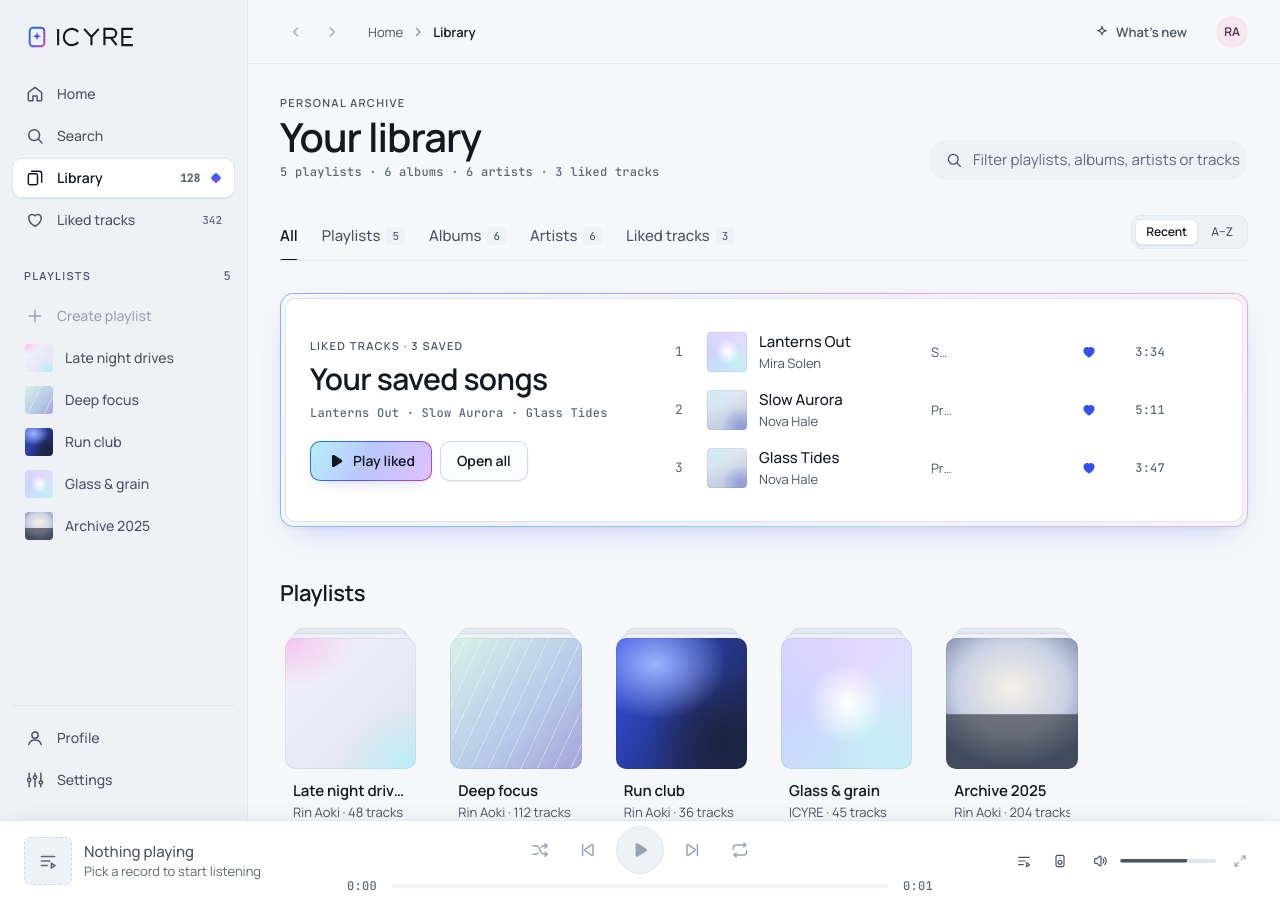
Scenario: Library screen › switches tabs and syncs URL query parameter
Expected: the heading "Your library" is shown, [280,109,481,164]
What coordinates should you click on to do the following:
click the tab "Albums 6"
I would click on:
 (468, 236)
Its box is [429,212,506,260].
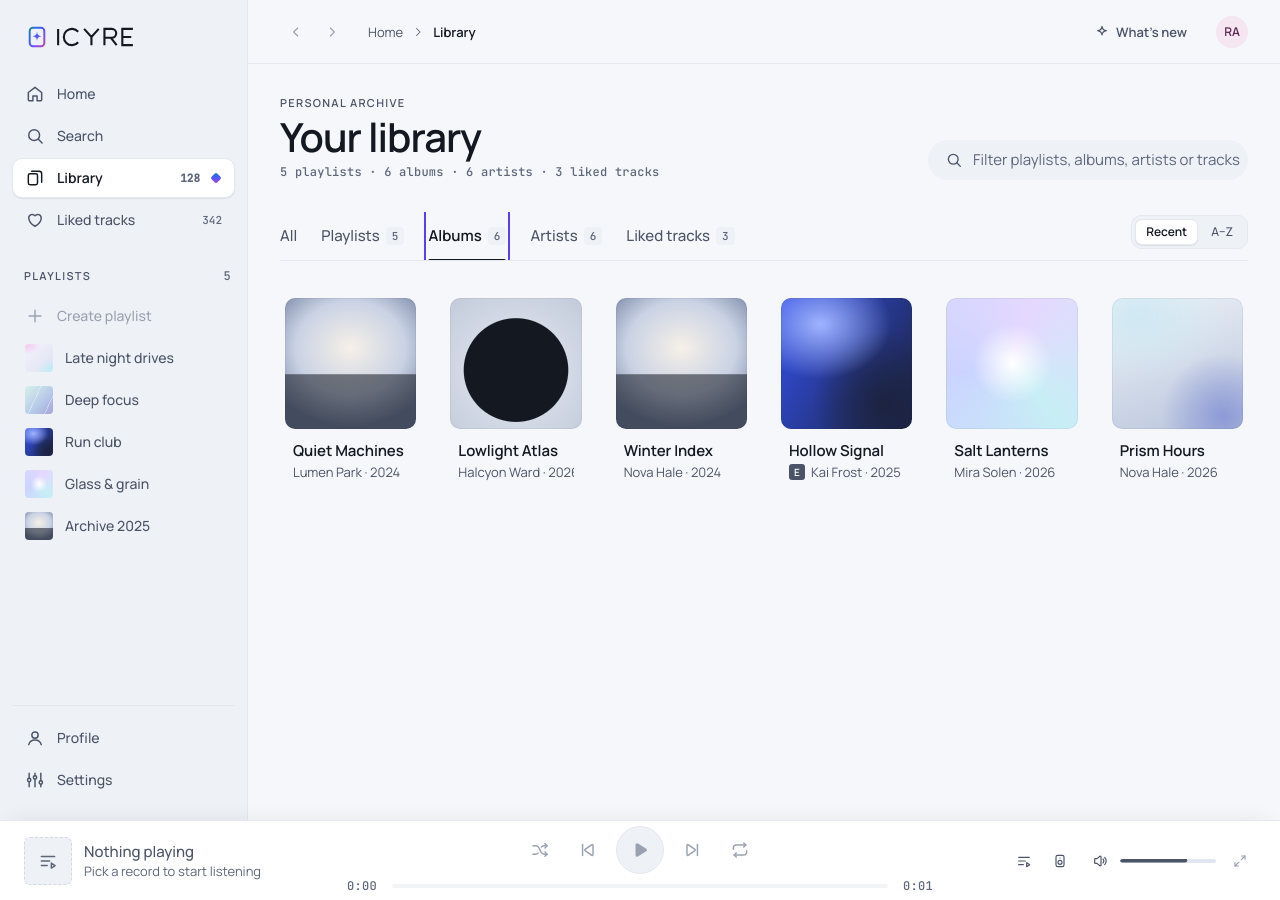
Now the button "Salt Lanterns Mira Solen · 2026" is shown, box [946,429,1078,489]
What coordinates should you click on to do the following:
click the tab "Liked tracks 3"
I would click on:
 (681, 236)
Its box is [626,212,735,260].
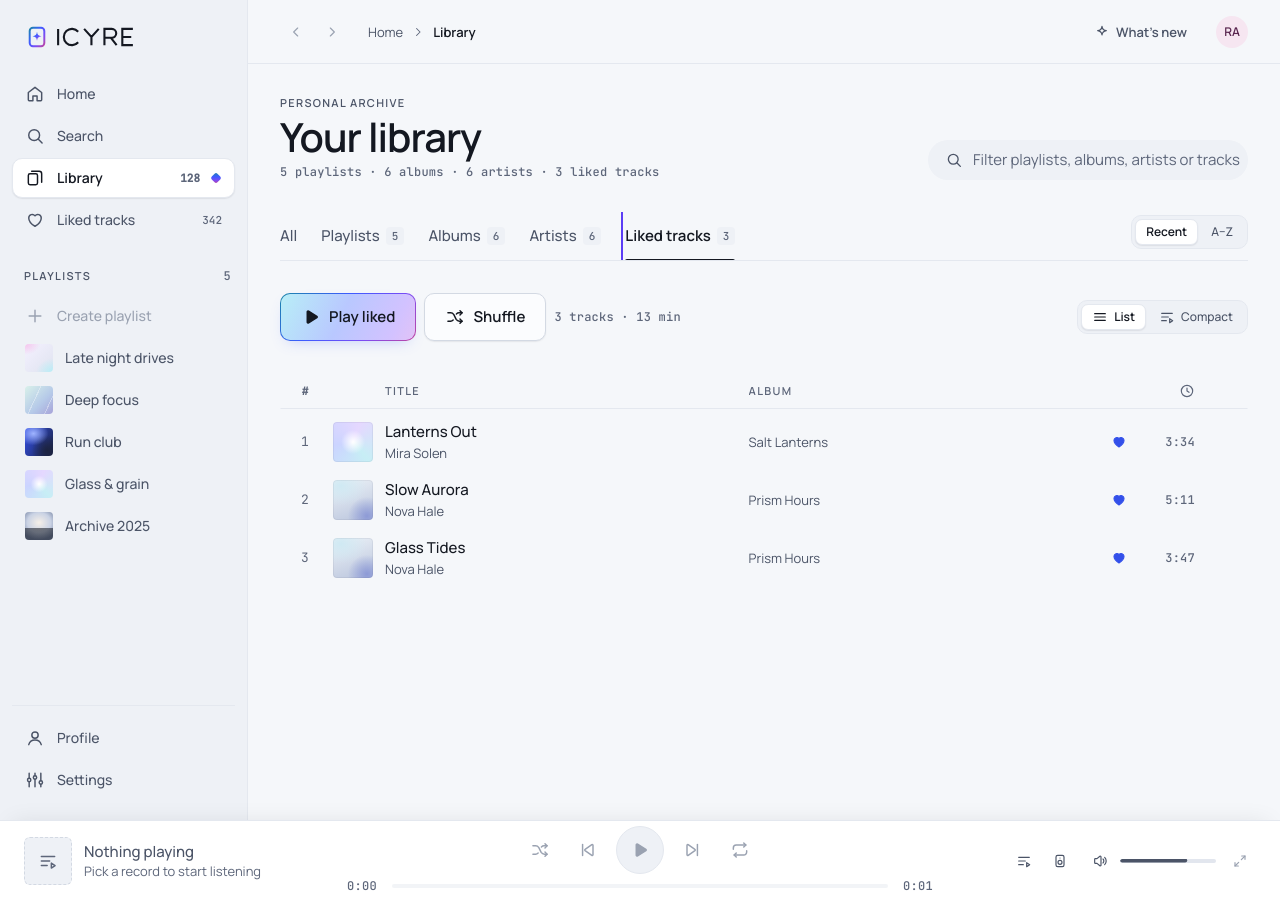
Now the text "Glass Tides" is shown, box [385,537,465,558]
